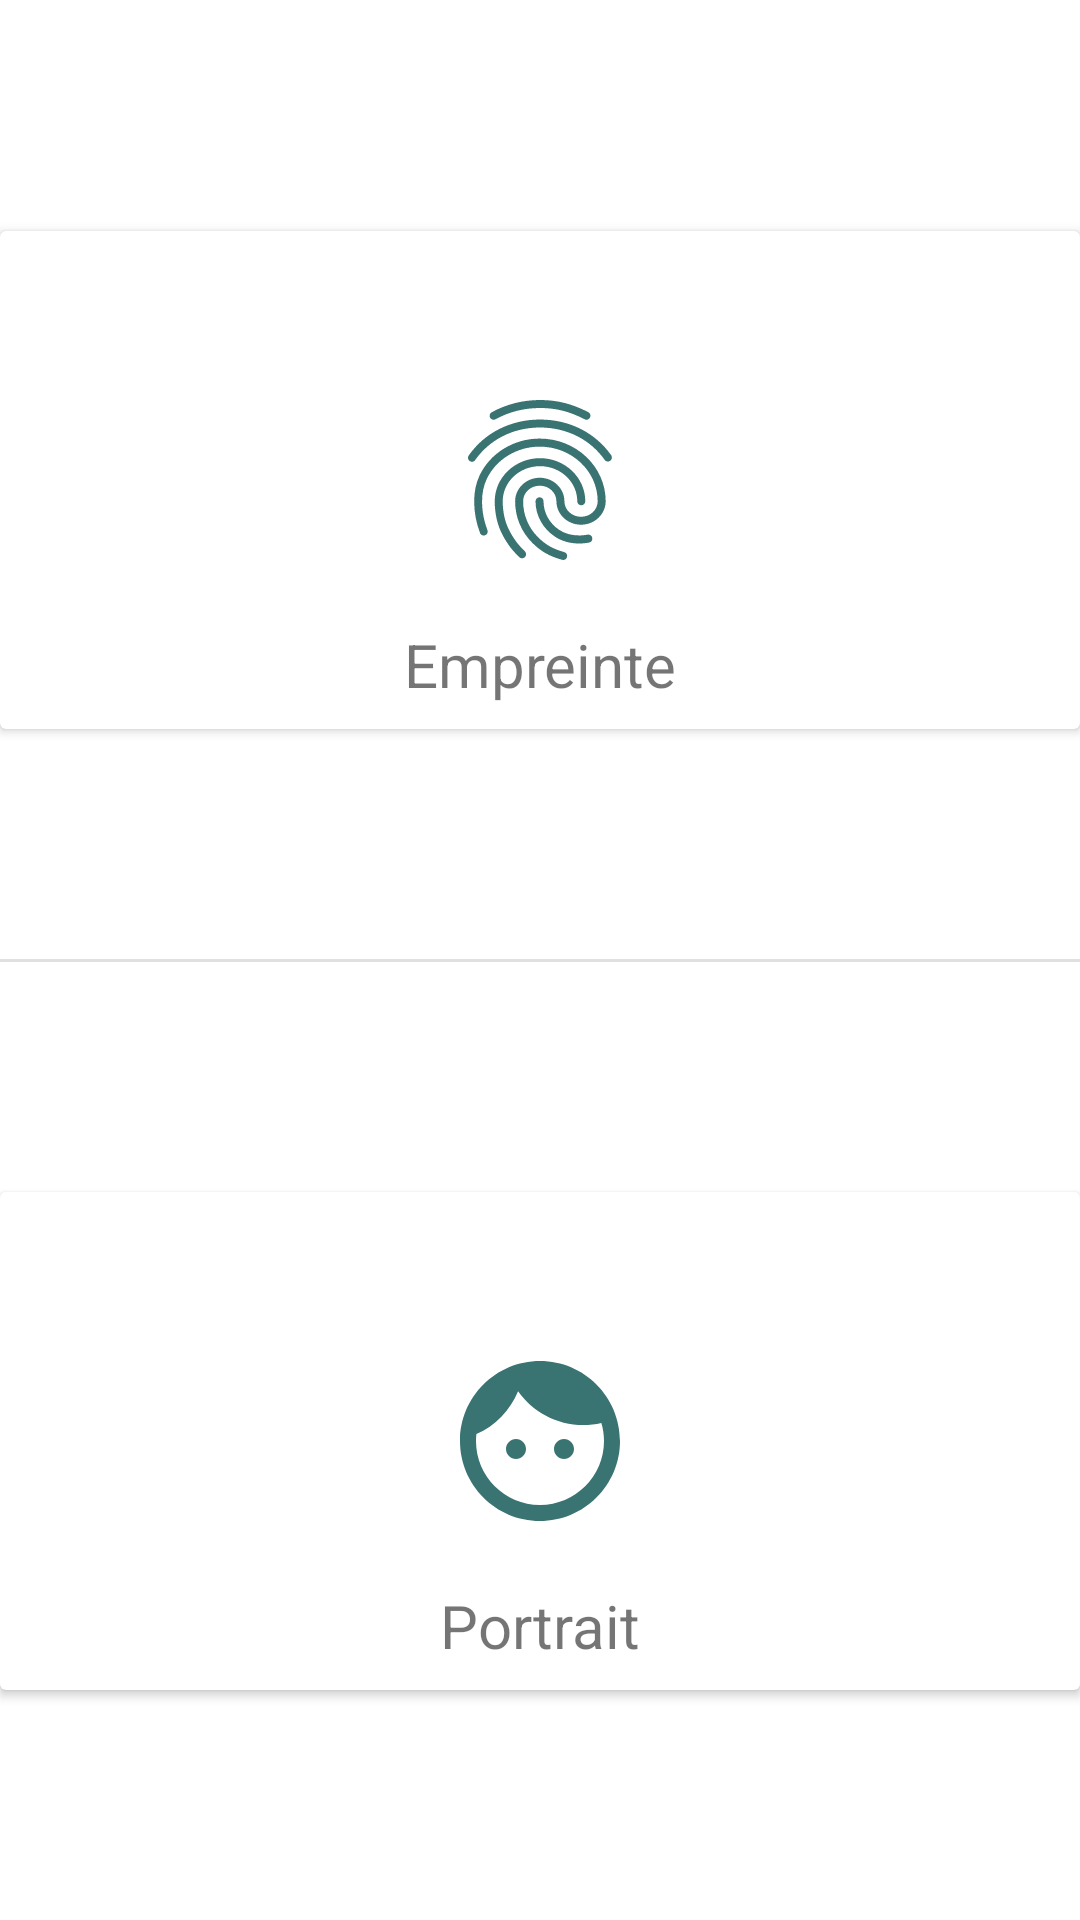

Named icons in this screenshot (1080 × 1920) and their bounding boxes, (x1, y1, x2, y2):
face: (460, 1361, 620, 1521)
fingerprint: (468, 400, 612, 560)
